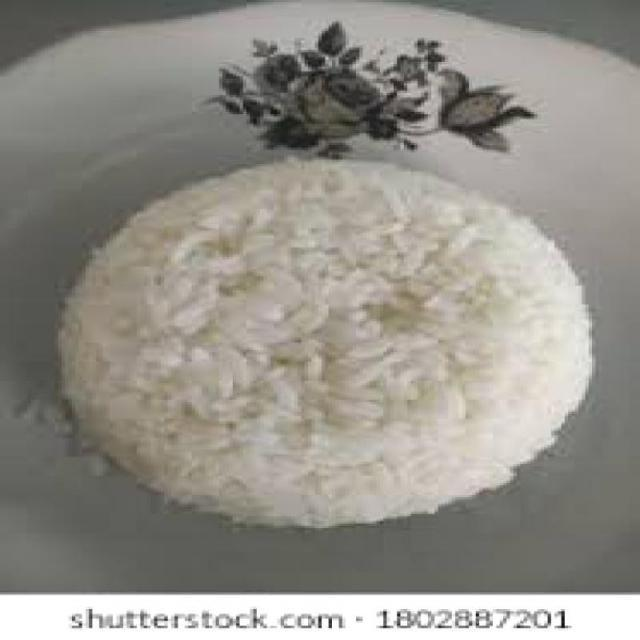Chicken -Chicken Inasal-: (64, 164, 596, 532)
